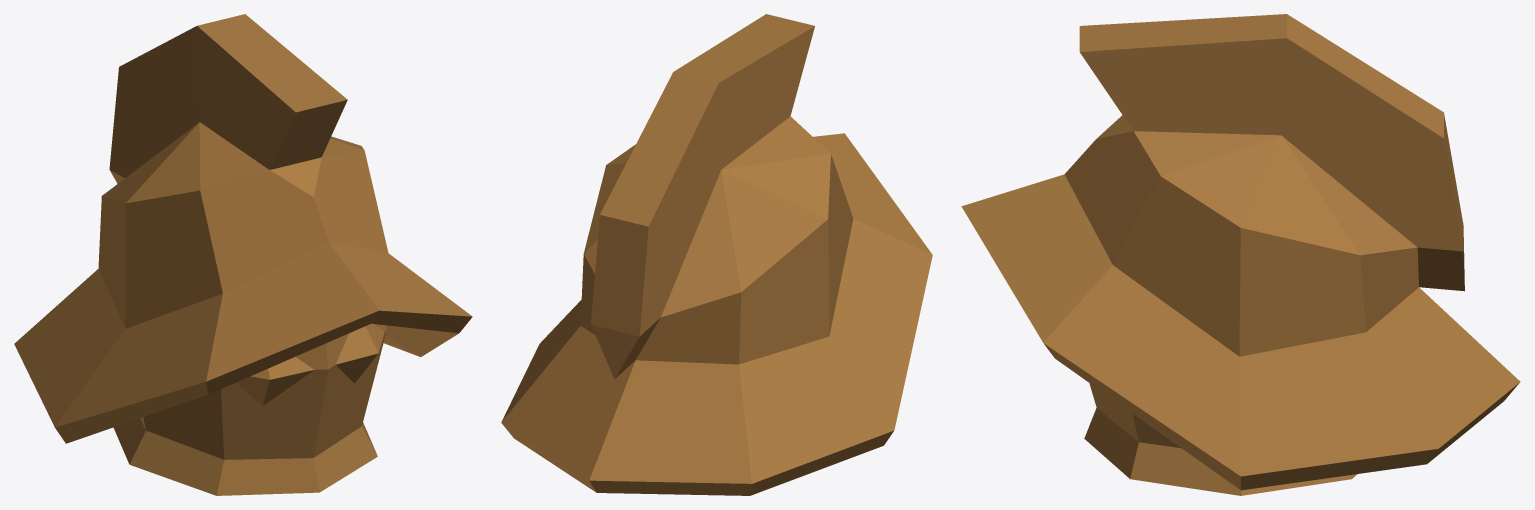
File: SM_Helmet_Gladiator_Empire.fbx
3 renders of one model, left to right at view 1: azimuth 30°, elevation 25°; view 2: azimuth 150°, elevation 25°; view 3: azimuth 270°, elevation 25°, orthographic. The views are drawn at different scales.
Visible parts, largest first — view 1: SM_Helmet_Gladiator_Empire; view 2: SM_Helmet_Gladiator_Empire; view 3: SM_Helmet_Gladiator_Empire.
Part boxes in pixels (left/top/right/bottom): SM_Helmet_Gladiator_Empire: left=14, top=14, right=472, bottom=495; SM_Helmet_Gladiator_Empire: left=501, top=14, right=932, bottom=495; SM_Helmet_Gladiator_Empire: left=961, top=14, right=1520, bottom=495.
Bounding box in the file's own units: 0.4155 × 0.4217 × 0.5181.
